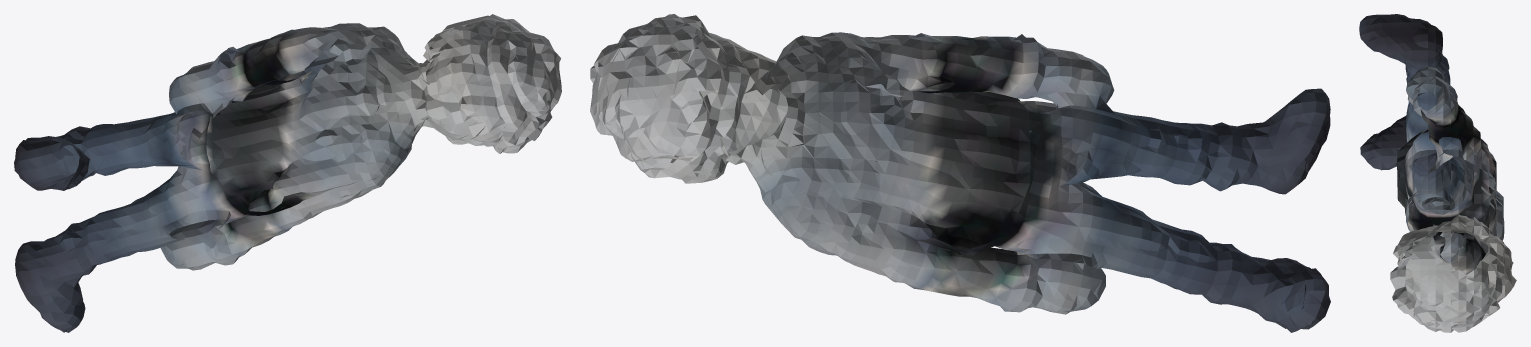
The picture shows the model from 3 angles, left to right: view 1: azimuth 30°, elevation 25°; view 2: azimuth 150°, elevation 25°; view 3: azimuth 270°, elevation 25°; orthographic projection. The views are drawn at different scales.
Visible parts, largest first — view 1: world; view 2: world; view 3: world.
Boxes of the visible parts, x1,y1,x2,y2 form: world: [14, 14, 561, 332]; world: [590, 14, 1330, 332]; world: [1359, 14, 1516, 332].
Bounding box in the file's own units: 0.9523 × 0.3541 × 0.2806.
